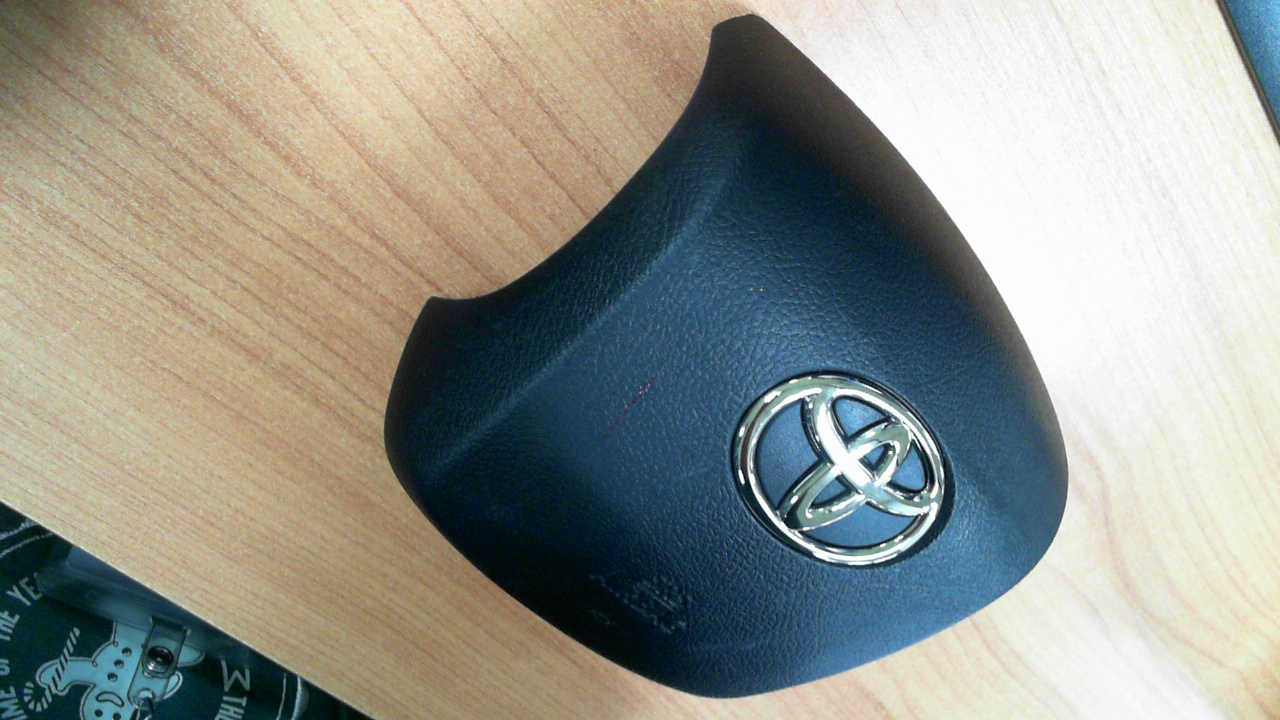Airbag: (382, 12, 1071, 699)
Toyota: (737, 374, 945, 566)
